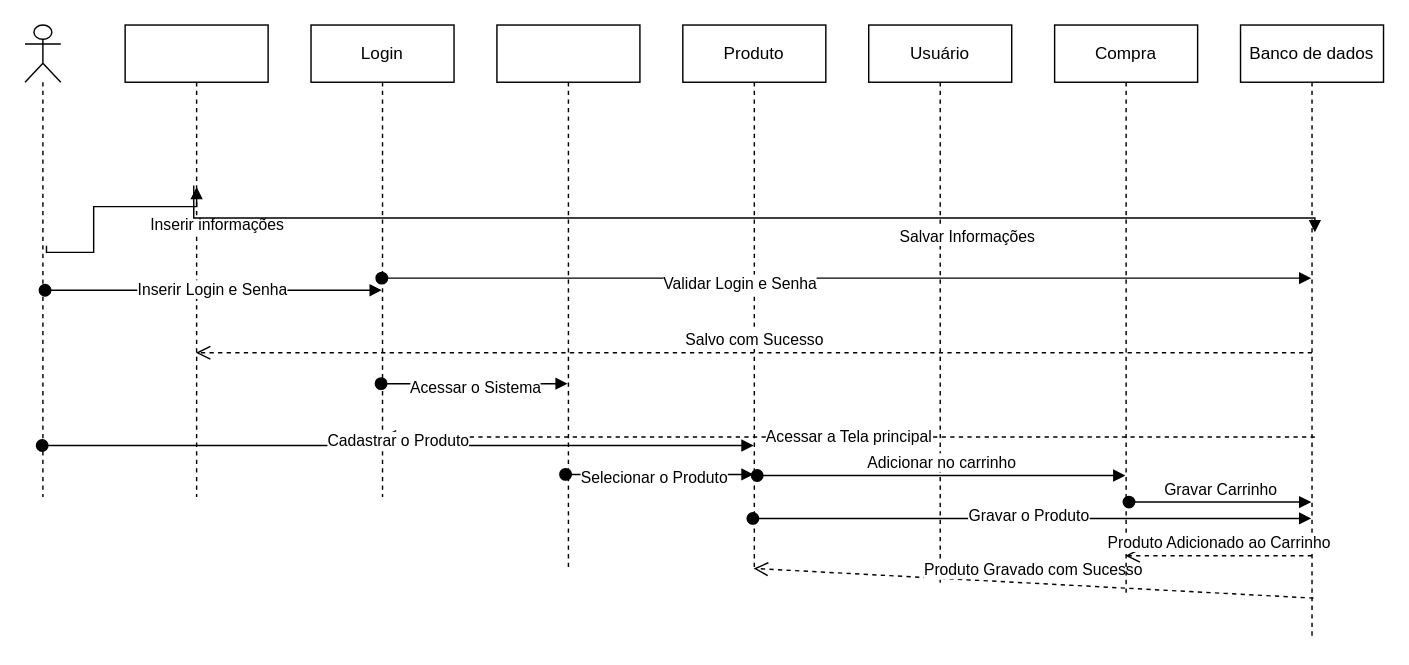
Image size: 1409x665. Some labels were removed from this diagram. Each missing label, with the box of its shape:
Cadastro: (124, 24, 268, 497)
Tela Principal: (495, 24, 640, 568)
